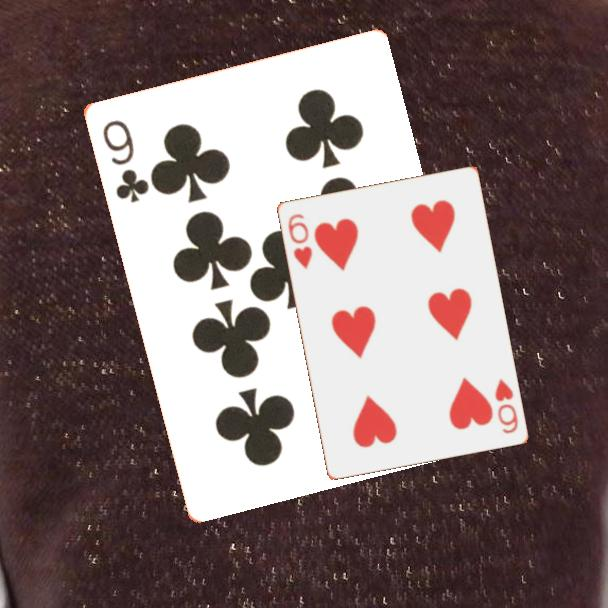c09: (98, 116, 151, 205)
h06: (284, 210, 315, 272), (491, 375, 521, 436)
